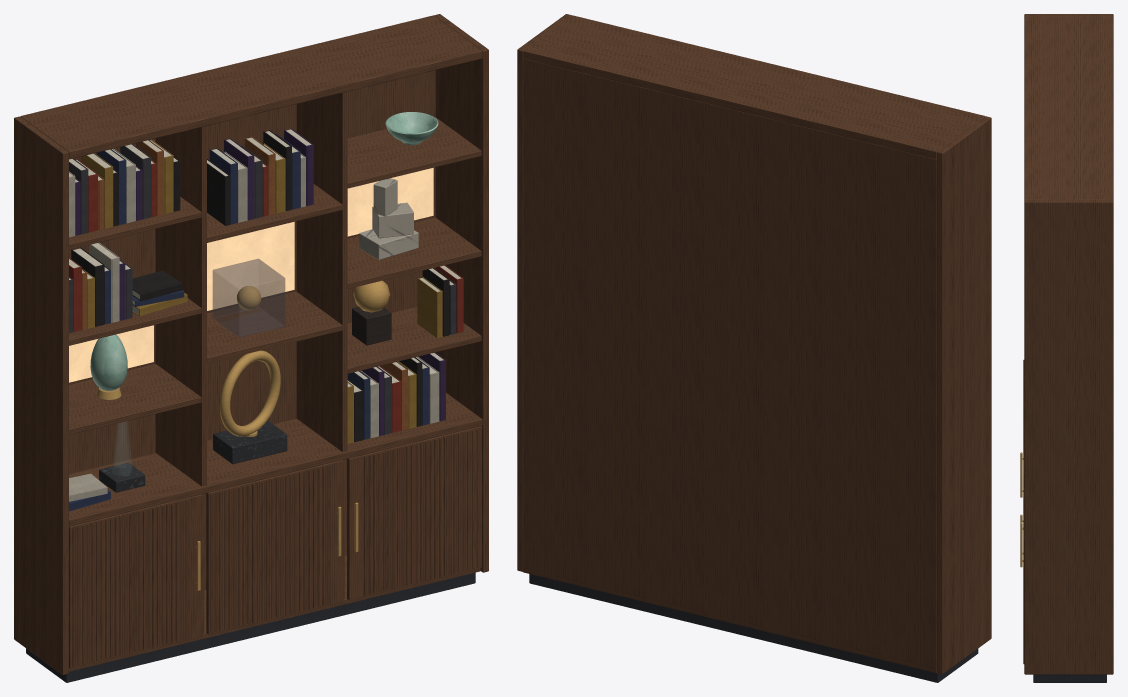
Rendered from trophy_wall.glb.
3 views of the same model, side by side, from view 1: azimuth 30°, elevation 25°; view 2: azimuth 150°, elevation 25°; view 3: azimuth 270°, elevation 25° (orthographic). The views are drawn at different scales.
Parts seen in each view (by area): view 1: part_carcass_LOD0, part_door_2_LOD0, part_door_3_LOD0, part_door_1_LOD0, part_books_4_LOD0, part_books_5_LOD0, part_books_6_LOD0, part_books_3_LOD0, part_panel_1_LOD0, part_award_6_LOD0, part_award_1_LOD0, part_award_5_LOD0 (+8 smaller); view 2: part_carcass_LOD0; view 3: part_carcass_LOD0, part_door_3_LOD0, part_door_1_LOD0.
Part boxes in pixels (left/top/right/bottom): part_carcass_LOD0: left=14, top=14, right=488, bottom=682; part_door_2_LOD0: left=206, top=460, right=343, bottom=634; part_door_3_LOD0: left=347, top=426, right=481, bottom=600; part_door_1_LOD0: left=69, top=494, right=202, bottom=668; part_books_4_LOD0: left=69, top=139, right=180, bottom=237; part_books_5_LOD0: left=207, top=128, right=313, bottom=225; part_books_6_LOD0: left=347, top=352, right=445, bottom=443; part_books_3_LOD0: left=69, top=242, right=187, bottom=333; part_panel_1_LOD0: left=207, top=221, right=294, bottom=310; part_award_6_LOD0: left=212, top=258, right=285, bottom=337; part_award_1_LOD0: left=213, top=350, right=287, bottom=464; part_award_5_LOD0: left=359, top=178, right=418, bottom=259; part_carcass_LOD0: left=517, top=14, right=991, bottom=682; part_carcass_LOD0: left=1024, top=14, right=1113, bottom=682; part_door_3_LOD0: left=1020, top=488, right=1024, bottom=663; part_door_1_LOD0: left=1020, top=360, right=1024, bottom=497.
Size of what is drawn, in the model's own units: 2 by 2.4 by 0.418.
Materials: 25 (21 with a texture image).
